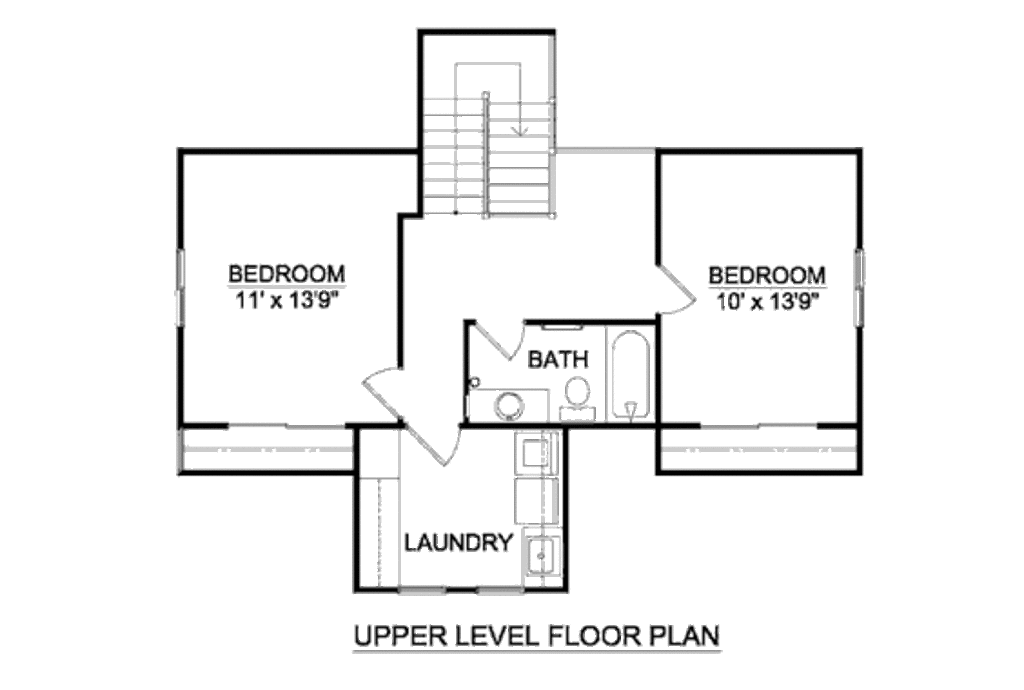door: (357, 359, 466, 474), (468, 316, 528, 366), (647, 263, 699, 318)
large_sink: (557, 375, 600, 431)
small_sink: (473, 388, 562, 427)
stairs: (422, 26, 565, 231)
tub: (601, 322, 655, 421)
window: (846, 248, 866, 343), (392, 580, 444, 595), (481, 578, 526, 595)
